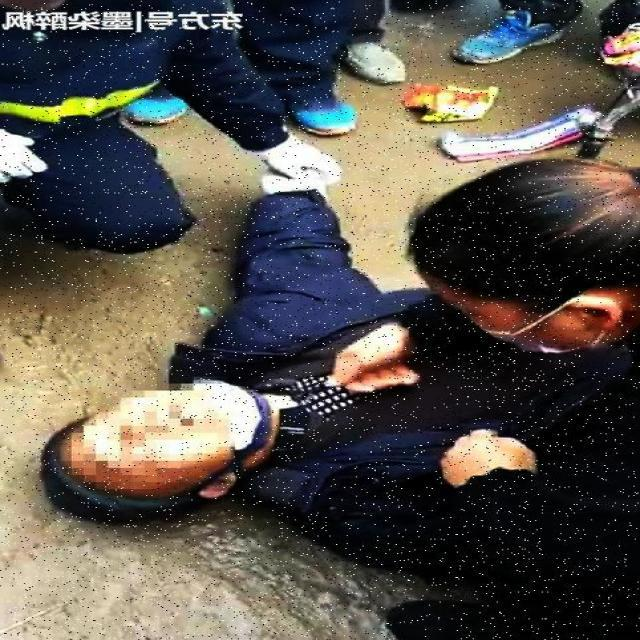fall: (51, 188, 400, 536)
